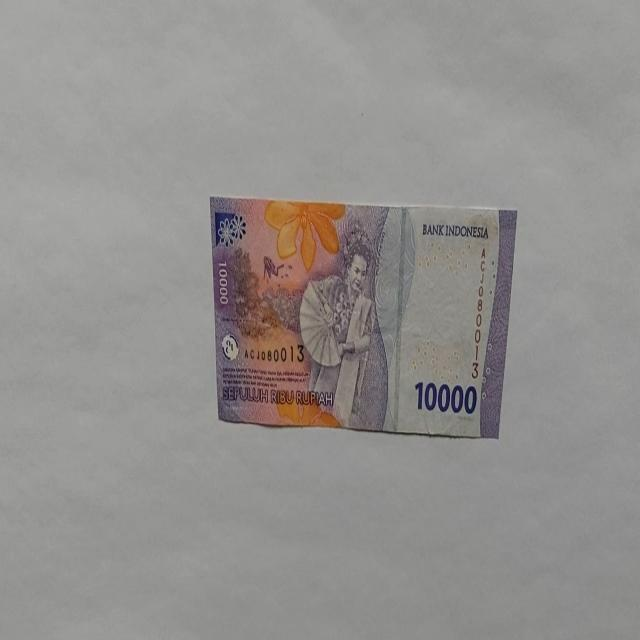sepuluh ribu rupiah: (208, 194, 518, 440)
